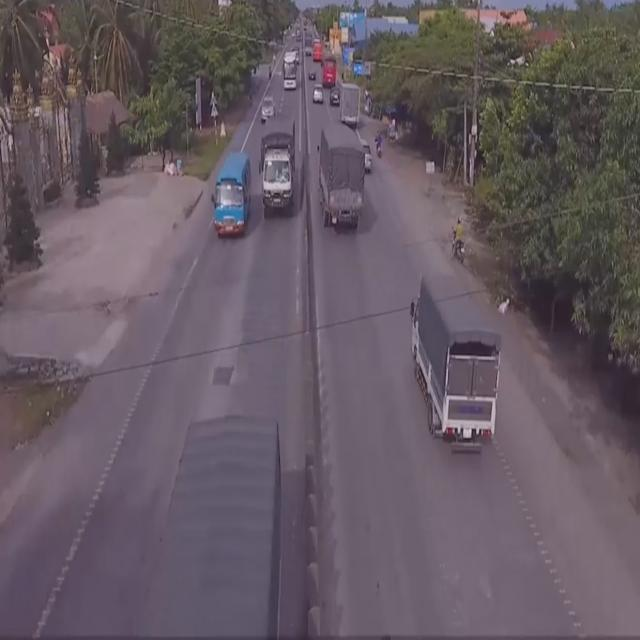bus: (210, 152, 252, 242), (282, 47, 298, 90)
car: (260, 91, 278, 126), (361, 142, 375, 178)
motorbike: (449, 216, 466, 270)
truck: (150, 412, 283, 640), (408, 272, 504, 453), (316, 127, 367, 233), (260, 114, 296, 213), (339, 81, 362, 130)
